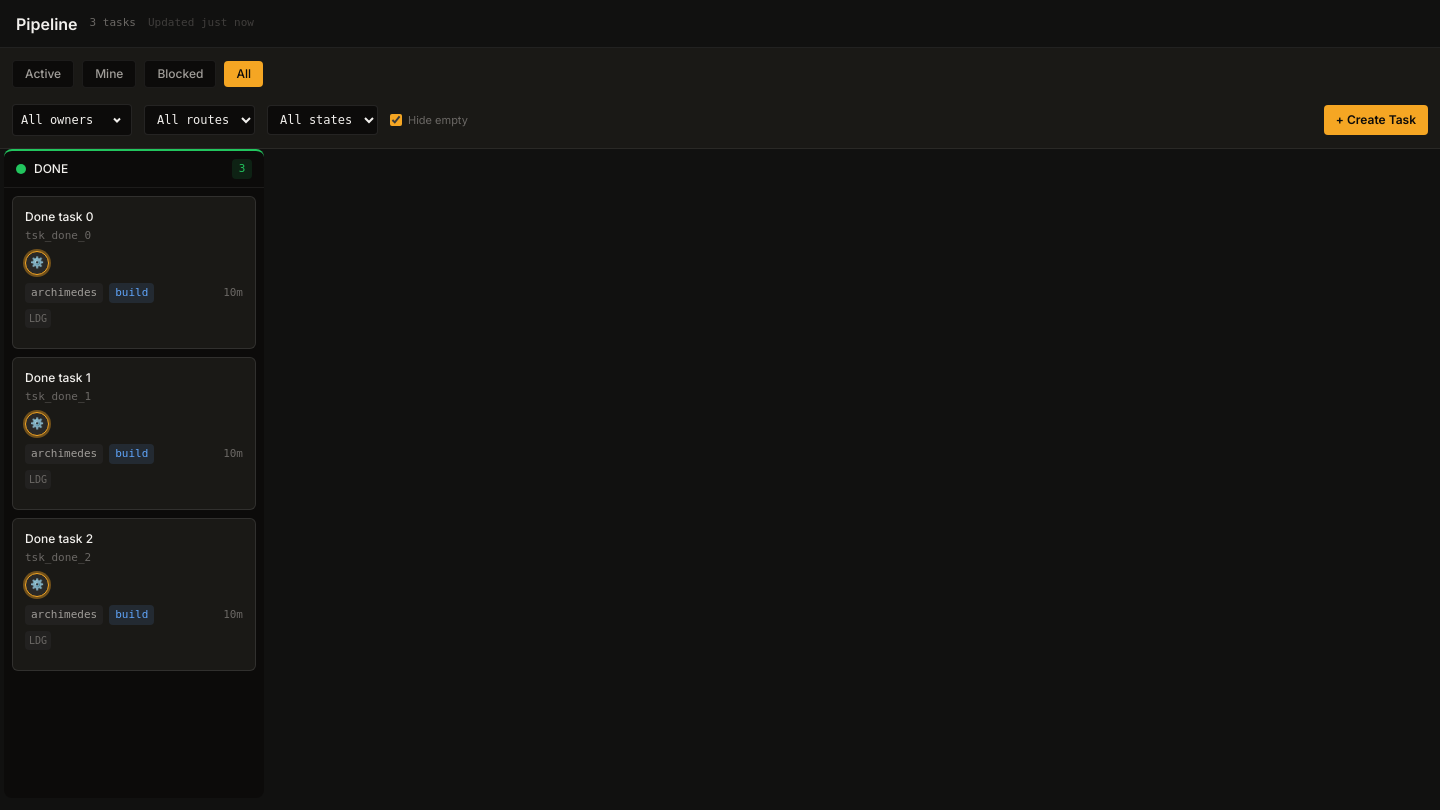
Test: Pipeline page (full Kanban) › counter shows 0/total when stateGroup=active and all tasks are DONE
This screenshot has width=1440, height=810.
Expected: the text "3 tasks" is shown, [90,15,136,32]
# Switch to active — 0/3
Select "Active" in the 2nd dropdown showing "All states". click: (322,120)
box: [267,105,378,135]
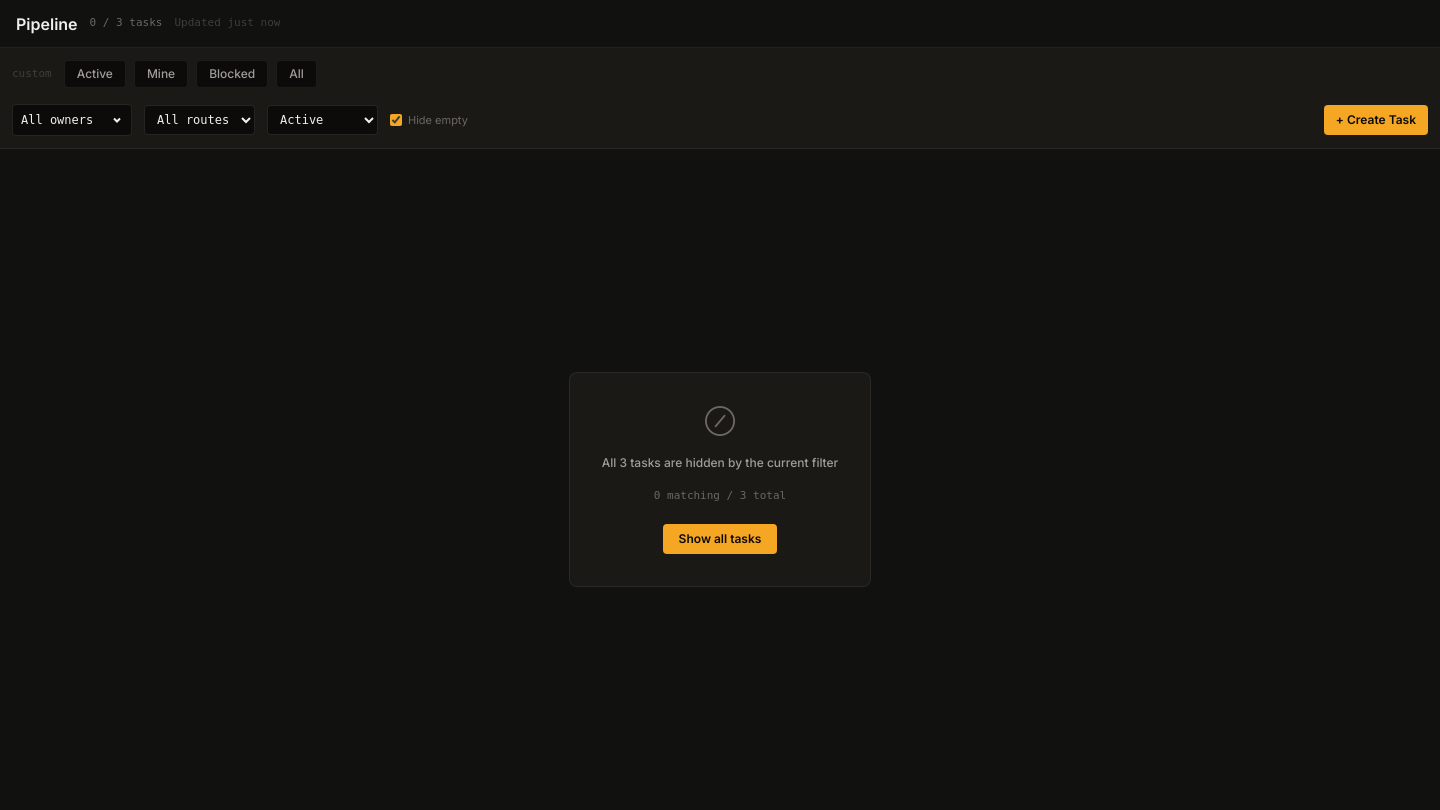
Expected: the text "0 / 3 tasks" is shown, [90,15,162,32]
